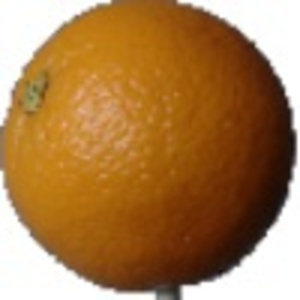laranja: (4, 2, 296, 296)
